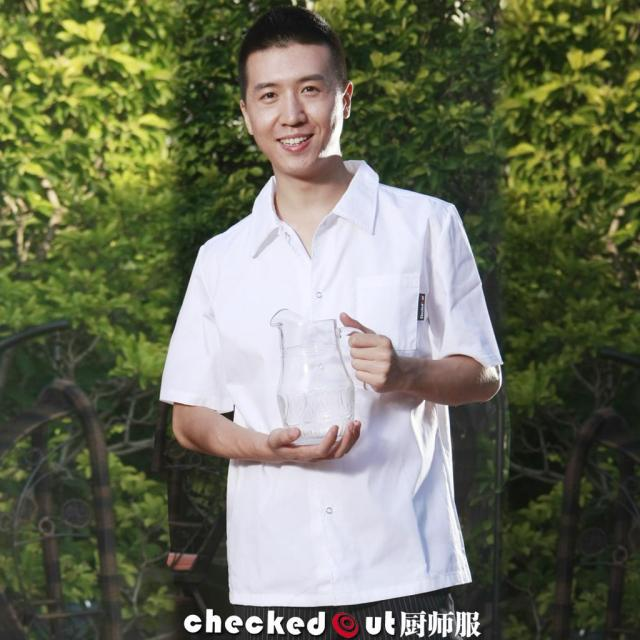nomask: (245, 42, 343, 172)
